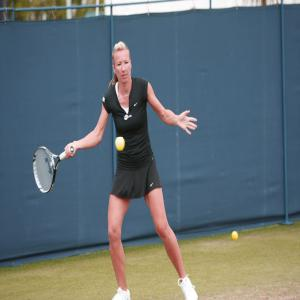TennisBall: (116, 139, 125, 151), (232, 232, 238, 242)
